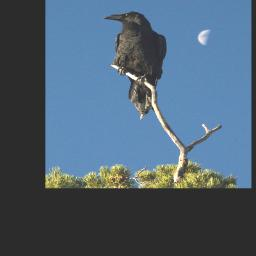Crow: (102, 11, 167, 122)
